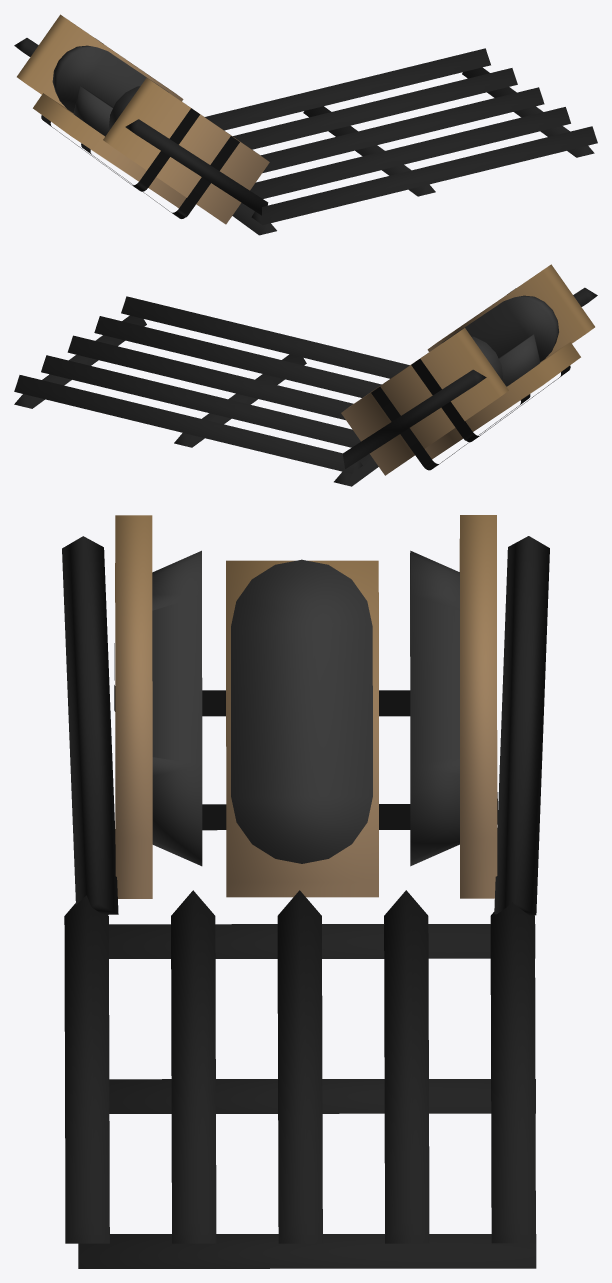
Rendered from Cleaning.fbx.
3 views of the same model, one above another, from view 1: azimuth 30°, elevation 25°; view 2: azimuth 150°, elevation 25°; view 3: azimuth 270°, elevation 25° (orthographic). The views are drawn at different scales.
Visible parts, largest first — view 1: Cube.037; view 2: Cube.037; view 3: Cube.037.
Part boxes in pixels (left/top/right/bottom): Cube.037: left=14, top=14, right=597, bottom=235; Cube.037: left=14, top=264, right=597, bottom=486; Cube.037: left=62, top=515, right=549, bottom=1268.
Bounding box in the file's own units: 74.13 × 171 × 56.04.
